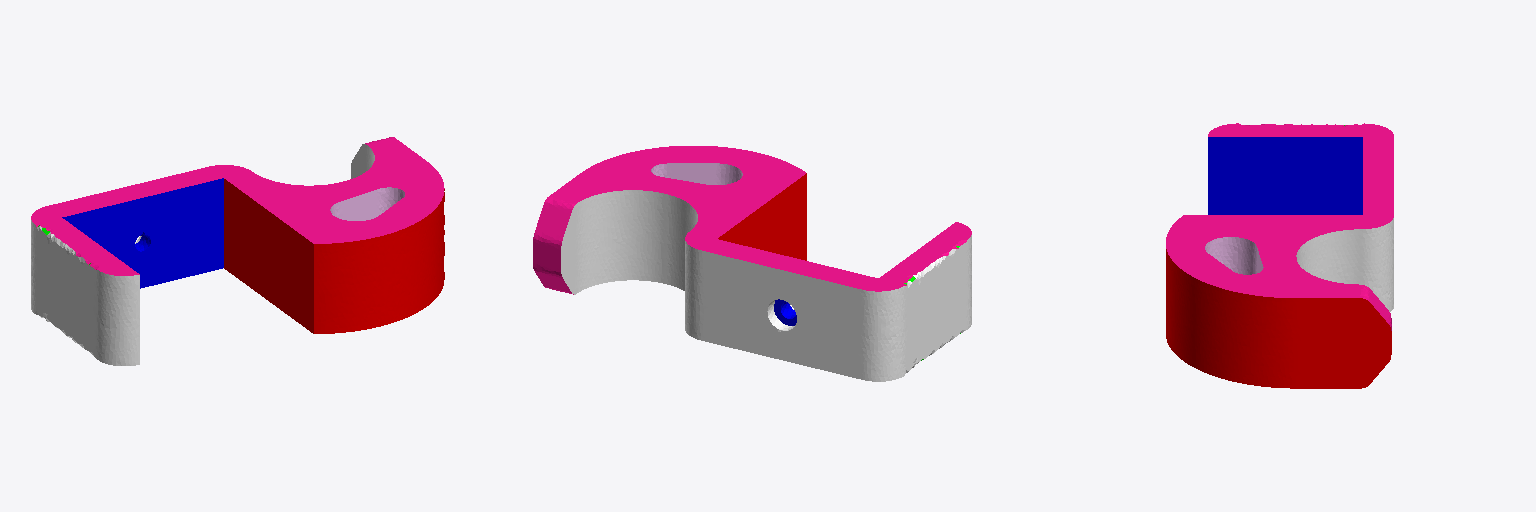
Rendered from model_25199_segmented.obj.
3 views of the same model, side by side, from view 1: azimuth 30°, elevation 25°; view 2: azimuth 150°, elevation 25°; view 3: azimuth 270°, elevation 25° (orthographic).
Size of the model in its own units: 133 by 32 by 73.5.